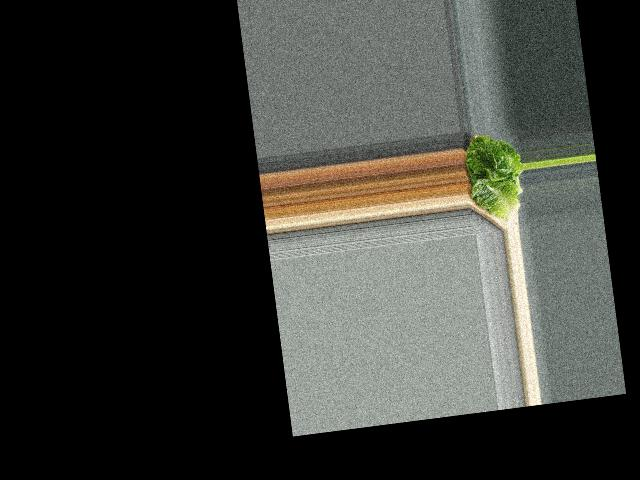lettuce: (459, 128, 528, 222)
